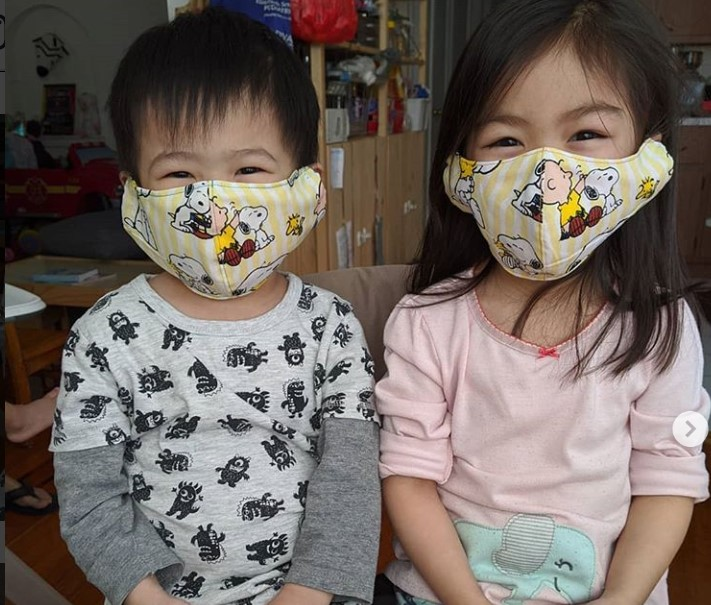face_with_mask: (440, 1, 676, 282), (115, 8, 329, 301)
